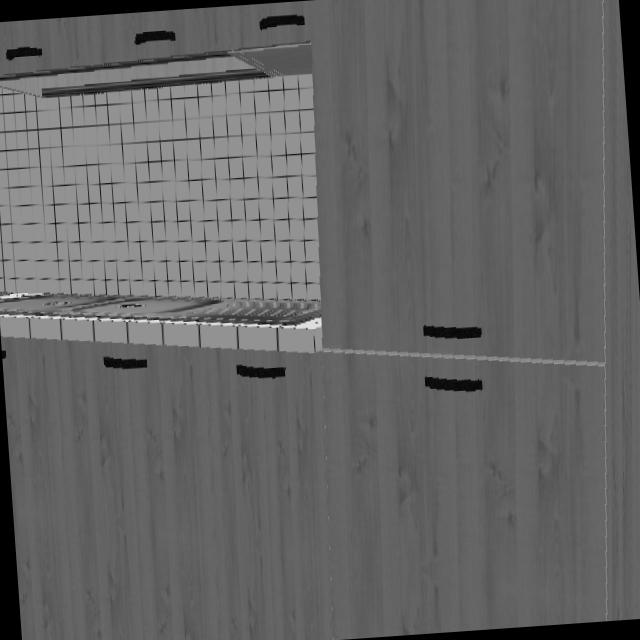countertop: (0, 294, 322, 353)
sink: (0, 296, 319, 326)
